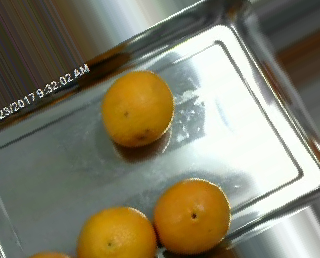Orange: (153, 177, 231, 252), (101, 70, 174, 148), (77, 205, 157, 258)
